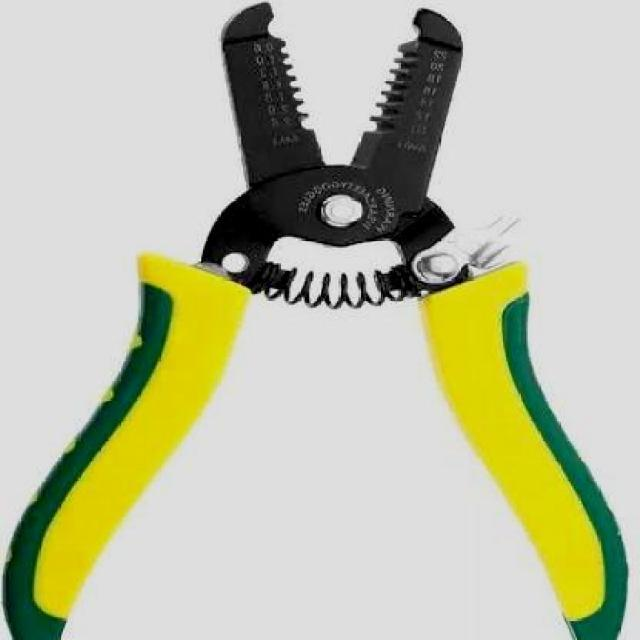pliers: (4, 6, 614, 639)
